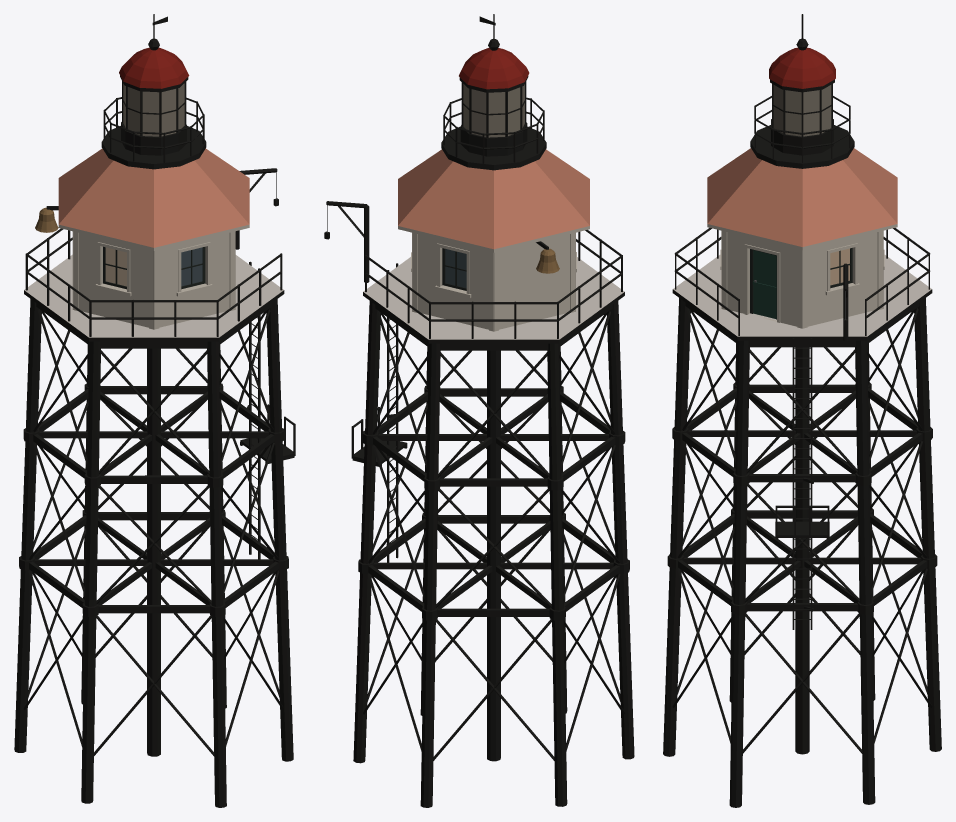
The model's file is lantern.glb.
The picture shows the model from 3 angles, left to right: view 1: azimuth 30°, elevation 25°; view 2: azimuth 150°, elevation 25°; view 3: azimuth 270°, elevation 25°; orthographic projection.
Visible parts, largest first — view 1: south-lantern-dp-01; view 2: south-lantern-dp-01; view 3: south-lantern-dp-01.
Boxes of the visible parts, left/top/right/bottom form: south-lantern-dp-01: left=14, top=14, right=295, bottom=807; south-lantern-dp-01: left=324, top=14, right=634, bottom=807; south-lantern-dp-01: left=663, top=14, right=941, bottom=807.
Size of what is drawn, in the model's own units: 8.03 by 22.74 by 7.74.
